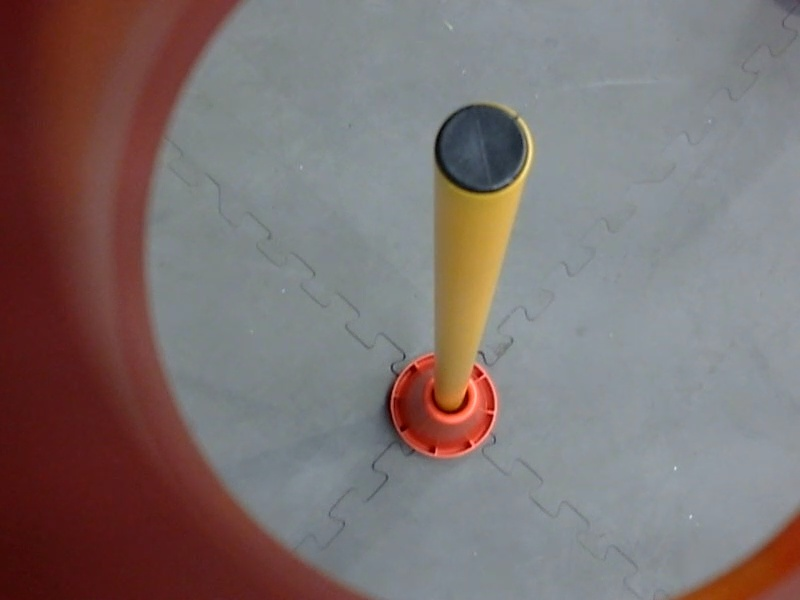tip: (426, 97, 539, 198)
